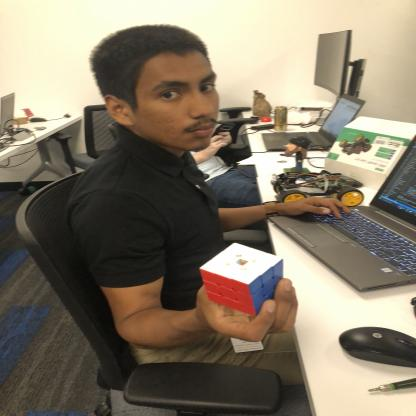SolvedCube: (198, 239, 288, 318)
